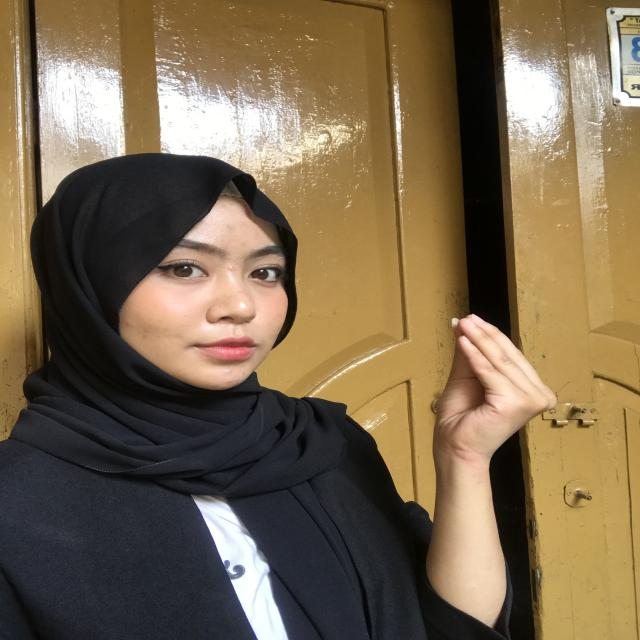kapan: (372, 296, 580, 487)
